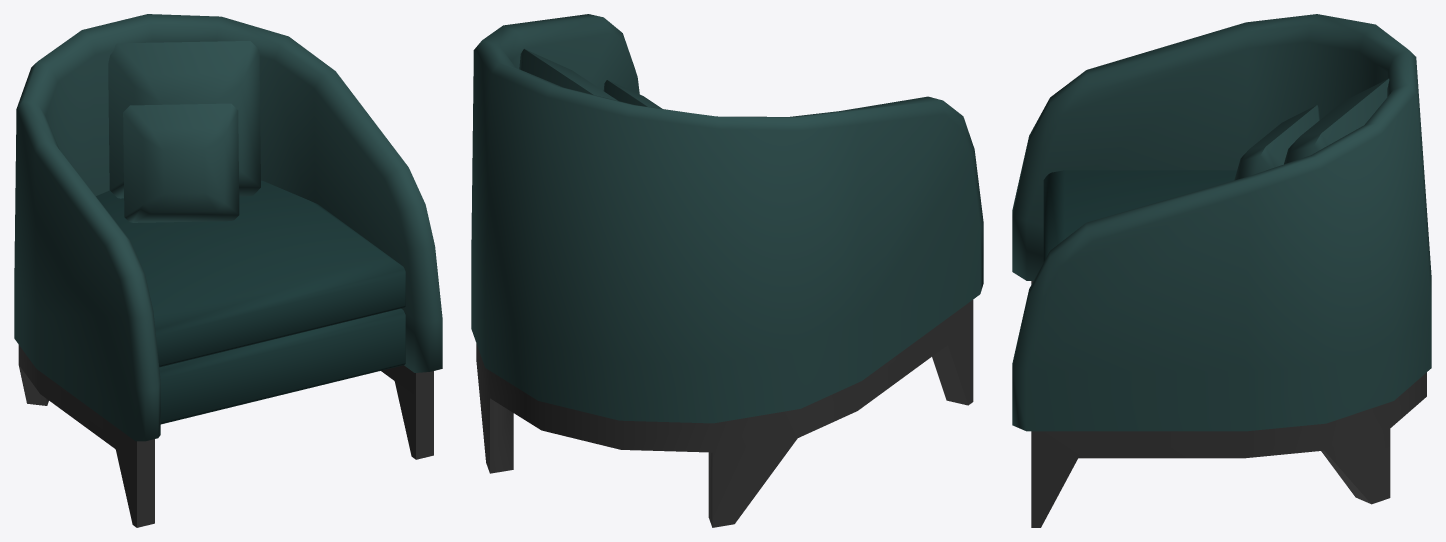
The model's file is armchair002.glb.
The picture shows the model from 3 angles, left to right: view 1: azimuth 30°, elevation 25°; view 2: azimuth 150°, elevation 25°; view 3: azimuth 270°, elevation 25°; orthographic projection. The views are drawn at different scales.
Parts seen in each view (by area): view 1: armchair.002; view 2: armchair.002; view 3: armchair.002.
Boxes of the visible parts, x1=… form: armchair.002: x1=14, y1=14, x2=442, y2=527; armchair.002: x1=471, y1=14, x2=983, y2=527; armchair.002: x1=1012, y1=14, x2=1431, y2=527.
Bounding box in the file's own units: 0.864 × 0.9352 × 0.9337.
Materials: 1 (1 with a texture image).
